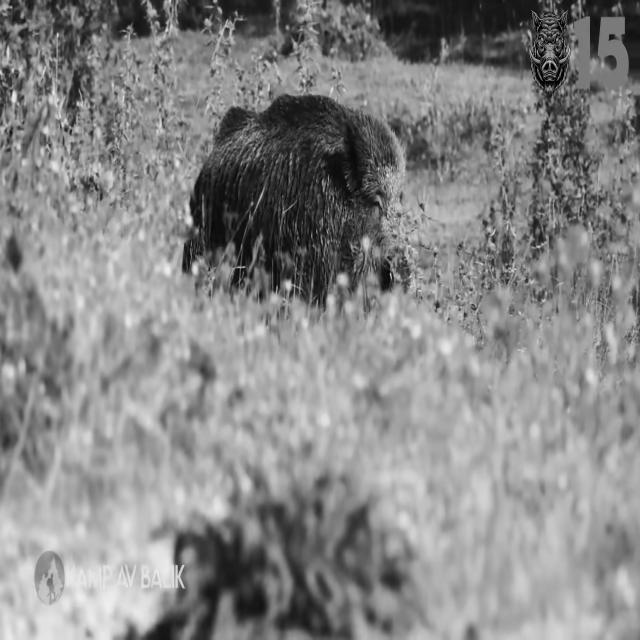boar: (182, 95, 404, 305)
